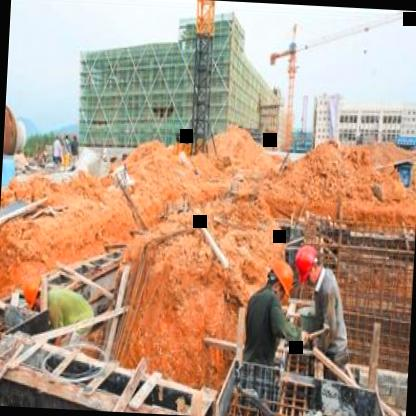helmet: (267, 260, 296, 302), (292, 244, 321, 286)
